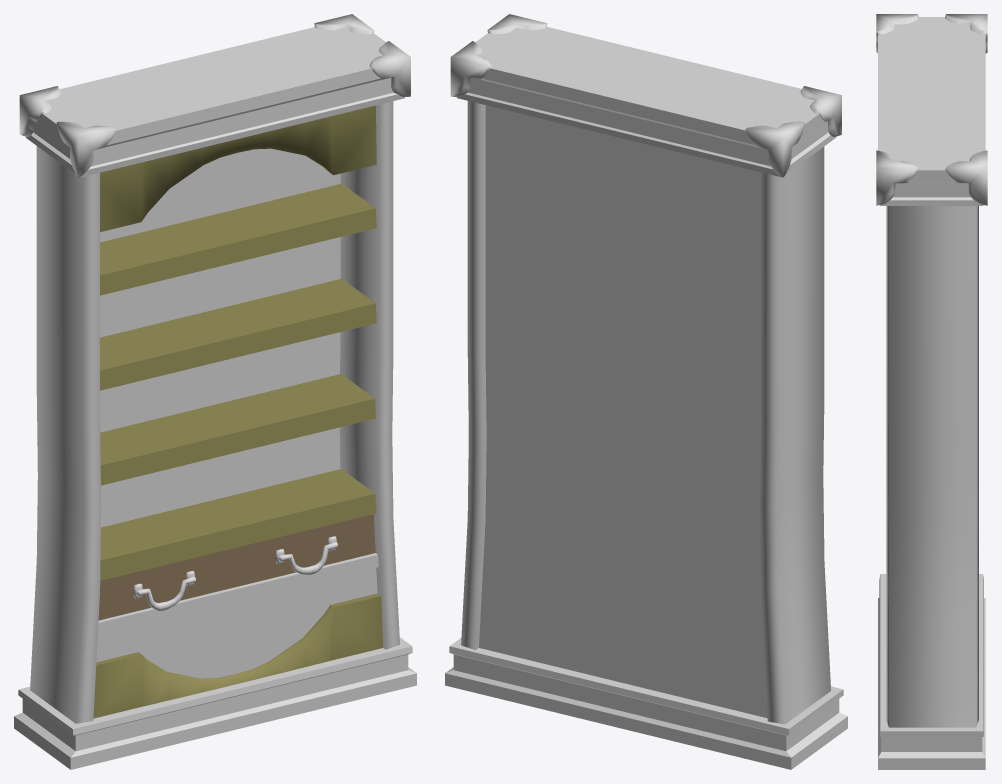
The model's file is opt_bookcase.glb.
3 renders of one model, left to right at view 1: azimuth 30°, elevation 25°; view 2: azimuth 150°, elevation 25°; view 3: azimuth 270°, elevation 25°, orthographic. The views are drawn at different scales.
Parts seen in each view (by area): view 1: opt_bookcase; view 2: opt_bookcase; view 3: opt_bookcase.
Boxes of the visible parts, left/top/right/bottom form: opt_bookcase: left=14, top=14, right=416, bottom=769; opt_bookcase: left=445, top=14, right=847, bottom=769; opt_bookcase: left=876, top=14, right=987, bottom=769.
Size of the model in its own units: 1.46 by 2.54 by 0.429.
